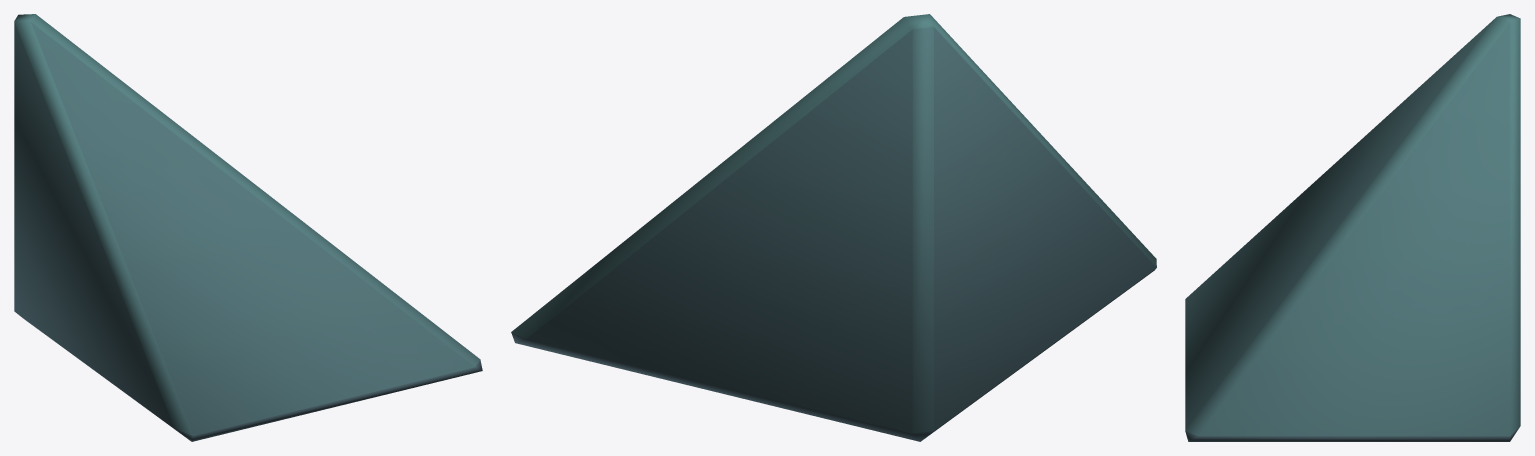
File: ramp_convex_hue_2.fbx
3 views of the same model, side by side, from view 1: azimuth 30°, elevation 25°; view 2: azimuth 150°, elevation 25°; view 3: azimuth 270°, elevation 25° (orthographic). The views are drawn at different scales.
Parts seen in each view (by area): view 1: ramp_convex_hue_2; view 2: ramp_convex_hue_2; view 3: ramp_convex_hue_2.
Part boxes in pixels (x1,y1,x2,y2): ramp_convex_hue_2: (14, 14, 482, 441); ramp_convex_hue_2: (511, 14, 1156, 441); ramp_convex_hue_2: (1185, 14, 1520, 441).
Size of the model in its own units: 97.79 by 93.05 by 97.79.
